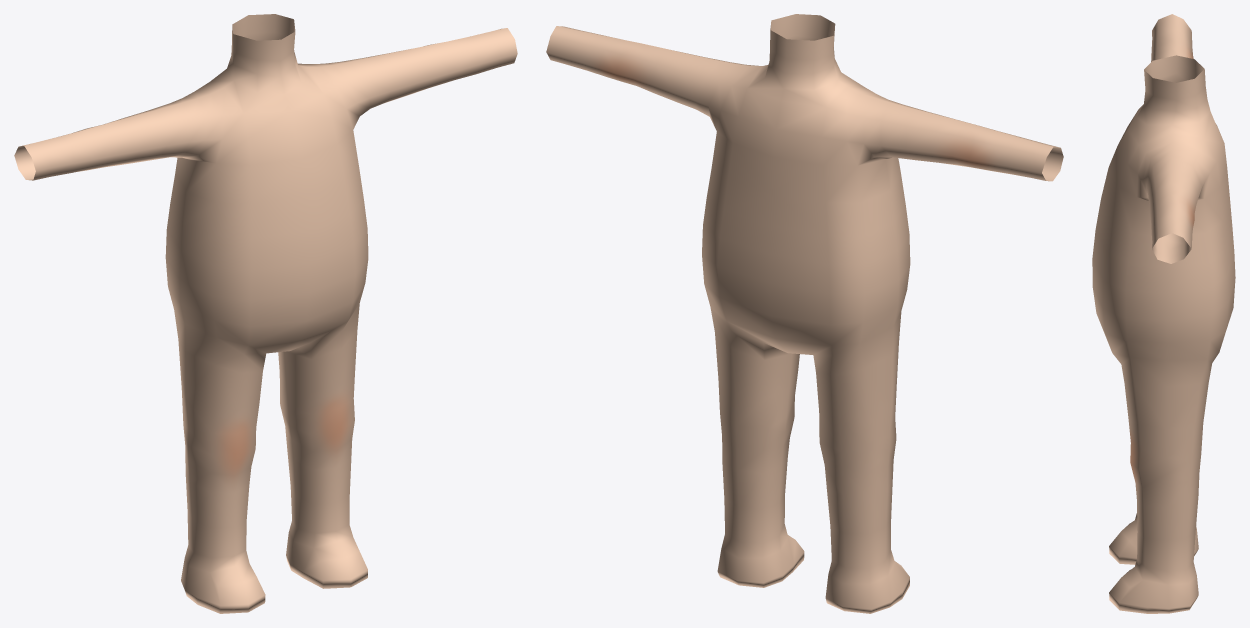
The model's file is Body_White_2.fbx.
The picture shows the model from 3 angles, left to right: view 1: azimuth 30°, elevation 25°; view 2: azimuth 150°, elevation 25°; view 3: azimuth 270°, elevation 25°; orthographic projection. The views are drawn at different scales.
Visible parts, largest first — view 1: Body_White_2; view 2: Body_White_2; view 3: Body_White_2.
Part boxes in pixels (bbox=[...]): Body_White_2: bbox=[14, 14, 517, 613]; Body_White_2: bbox=[546, 14, 1063, 613]; Body_White_2: bbox=[1092, 14, 1235, 613].
Bounding box in the file's own units: 95.86 × 104 × 26.46.
